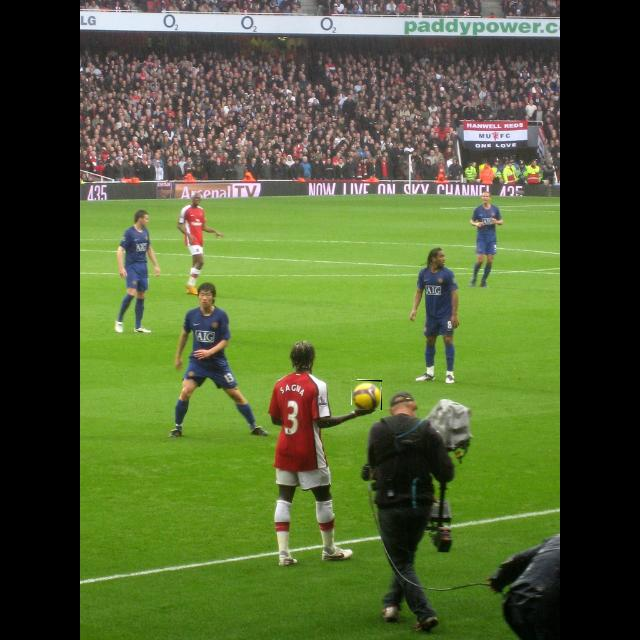Football: (352, 380, 382, 410)
